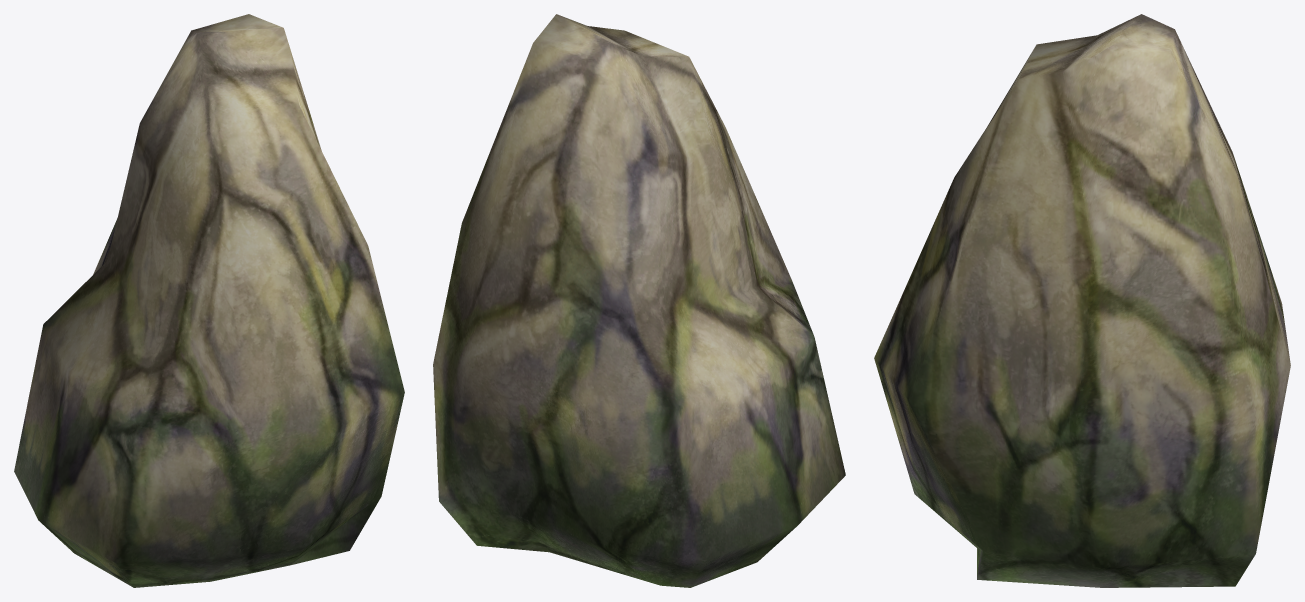
File: rock tall.FBX
3 renders of one model, left to right at view 1: azimuth 30°, elevation 25°; view 2: azimuth 150°, elevation 25°; view 3: azimuth 270°, elevation 25°, orthographic. The views are drawn at different scales.
Visible parts, largest first — view 1: rock tall; view 2: rock tall; view 3: rock tall.
Part boxes in pixels (x1,y1,x2,y2): rock tall: (14, 14, 404, 587); rock tall: (433, 14, 845, 587); rock tall: (874, 14, 1290, 587).
Bounding box in the file's own units: 2.25 × 3.19 × 2.29.
1 material, 1 textured.
